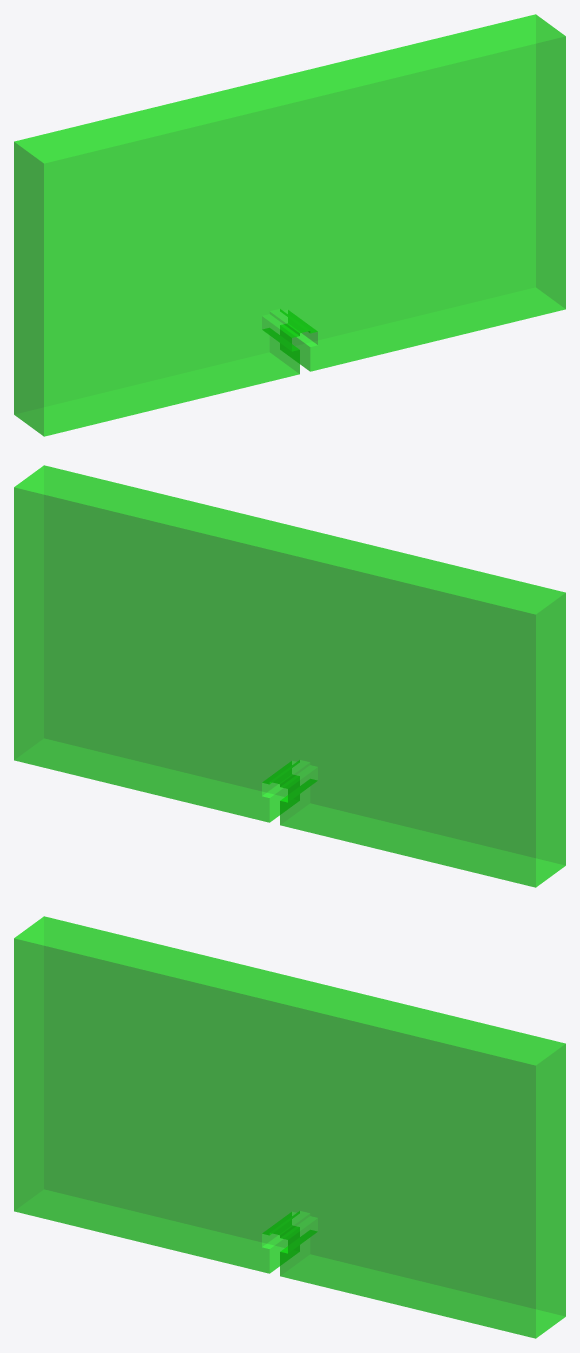
File: Walls3.glb
3 views of the same model, one above another, from view 1: azimuth 30°, elevation 25°; view 2: azimuth 150°, elevation 25°; view 3: azimuth 330°, elevation 25° (orthographic).
Parts seen in each view (by area): view 1: Cube; view 2: Cube; view 3: Cube.
Boxes of the visible parts, <box> form: Cube: <box>14,14,565,436</box>; Cube: <box>14,465,565,887</box>; Cube: <box>14,916,565,1338</box>.
Size of the model in its own units: 20 by 10 by 2.
